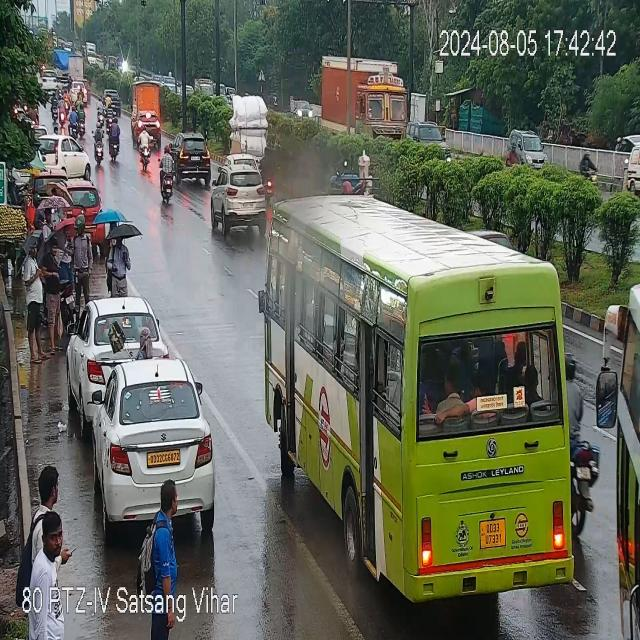2-wheelers: (158, 149, 180, 204), (135, 124, 156, 168), (92, 120, 104, 170), (107, 116, 120, 160)
bus: (264, 190, 576, 533), (592, 282, 640, 640)
car: (93, 358, 218, 525), (75, 294, 160, 406), (208, 160, 269, 237), (408, 121, 456, 175), (503, 125, 552, 176), (175, 131, 213, 185), (33, 136, 90, 168), (132, 113, 161, 146), (578, 147, 599, 191)
pedestrian: (21, 458, 74, 600), (145, 477, 184, 620), (20, 234, 47, 344), (68, 213, 98, 300), (102, 217, 132, 295), (44, 236, 66, 328)
truck: (318, 51, 409, 142), (228, 94, 267, 156), (130, 76, 162, 130)
